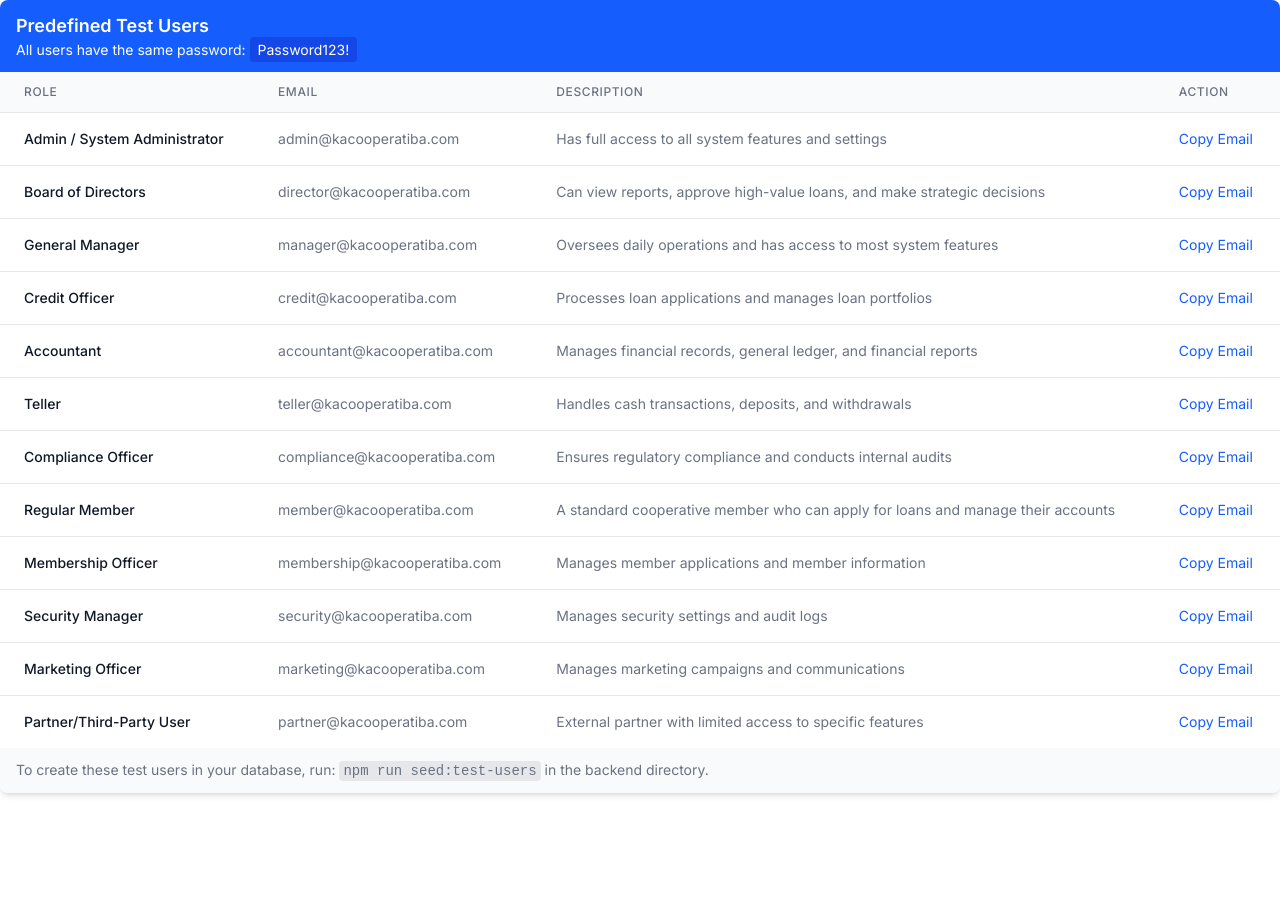
PredefinedTestUsers Component › copies email to clipboard when copy button is clicked
The image size is (1280, 900).
// Click the first one (admin)
Step 1. Click the button "Copy Email" in the row of "Admin / System Administrator" → (1216, 139), box [1179, 129, 1253, 149]
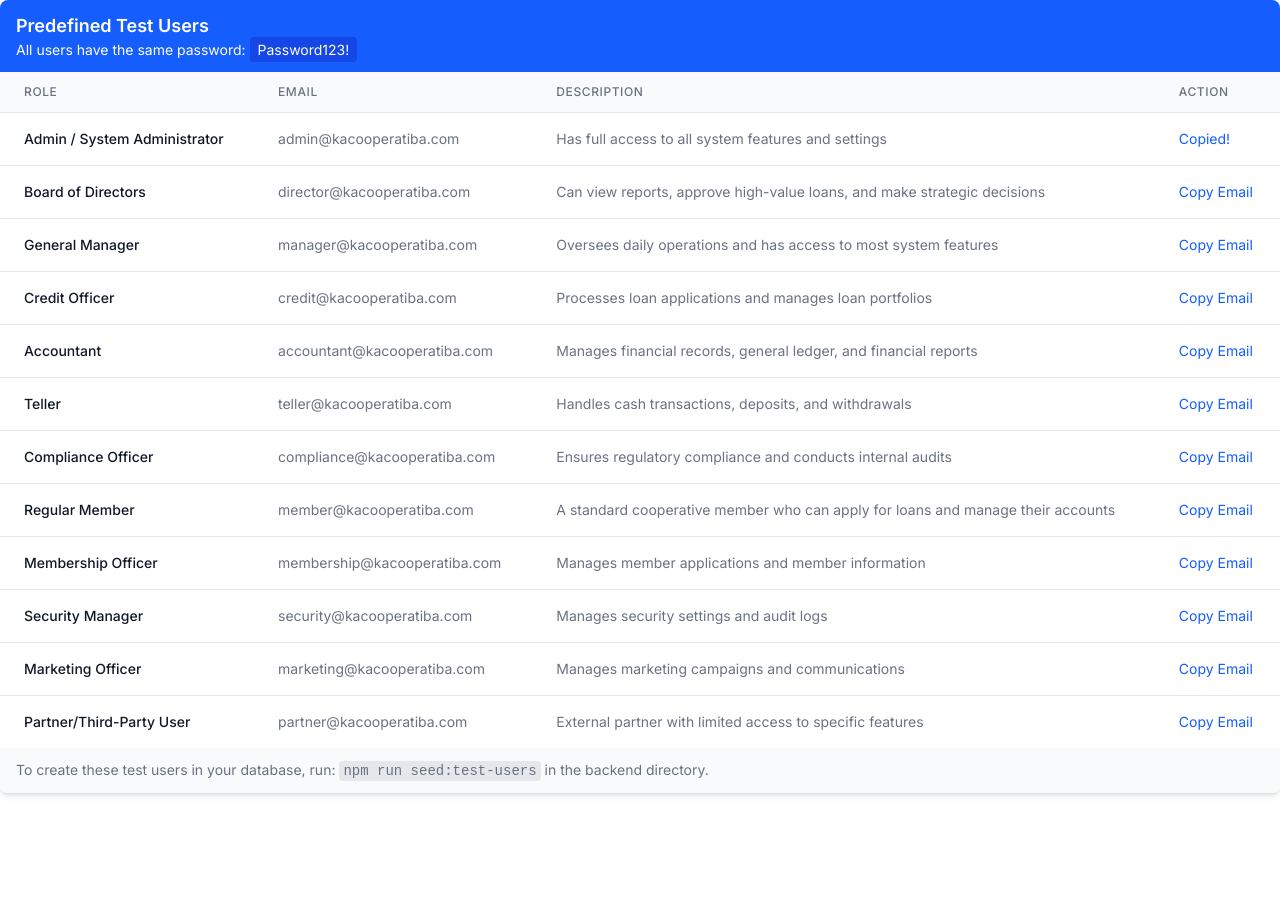
Now the button "Copied!" is shown, box [1179, 129, 1230, 149]
